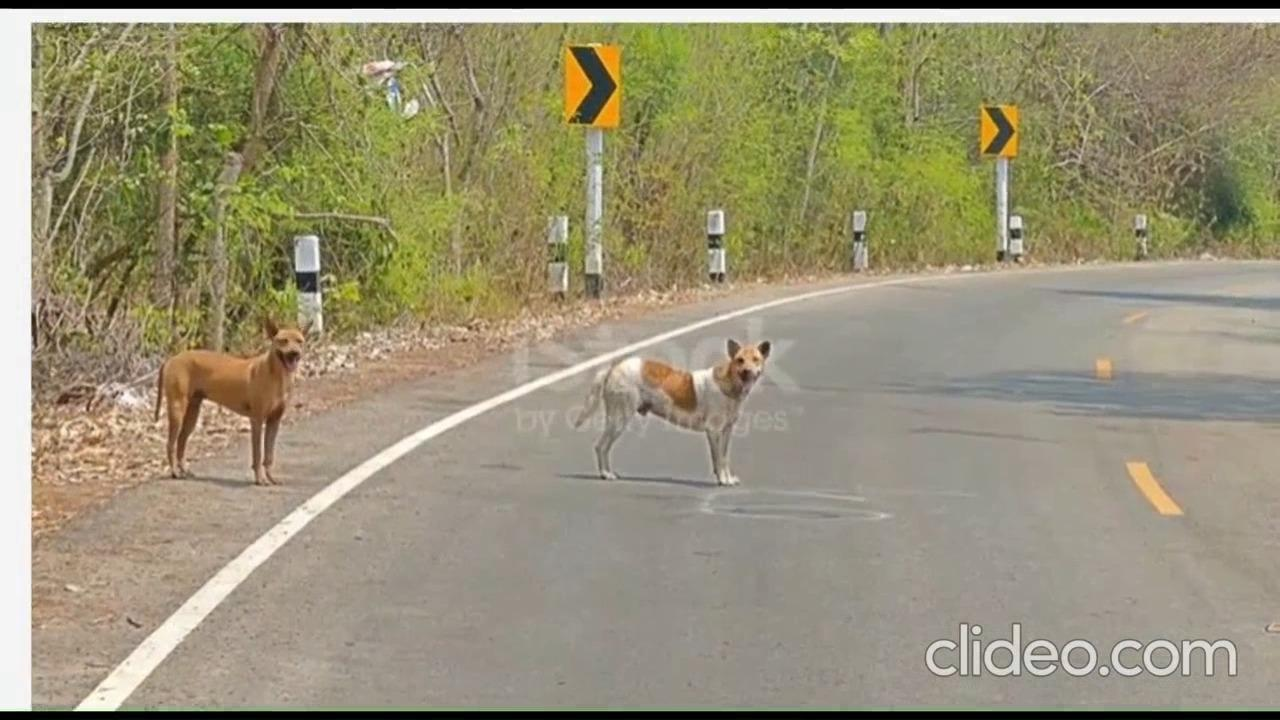dog: (580, 332, 771, 481), (159, 322, 313, 480)
